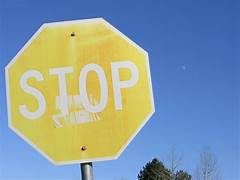stop: (4, 18, 153, 165)
